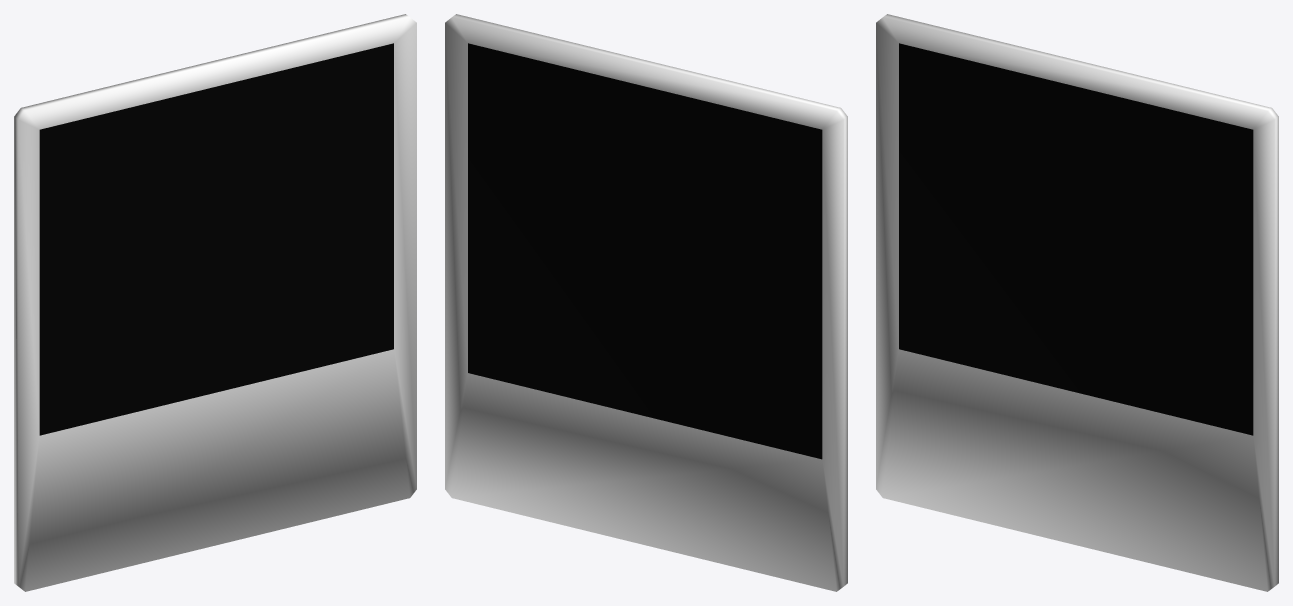
The model's file is photo_base.glb.
3 renders of one model, left to right at view 1: azimuth 30°, elevation 25°; view 2: azimuth 150°, elevation 25°; view 3: azimuth 330°, elevation 25°, orthographic.
Parts seen in each view (by area): view 1: Cube; view 2: Cube; view 3: Cube.
Boxes of the visible parts, left/top/right/bottom form: Cube: left=14, top=14, right=416, bottom=591; Cube: left=445, top=14, right=847, bottom=591; Cube: left=876, top=14, right=1278, bottom=591.
Bounding box in the file's own units: 0.383 × 0.4416 × 0.00752.
2 materials, 2 textured.
